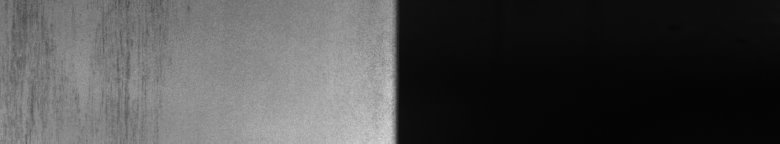ka: (117, 4, 163, 104)
